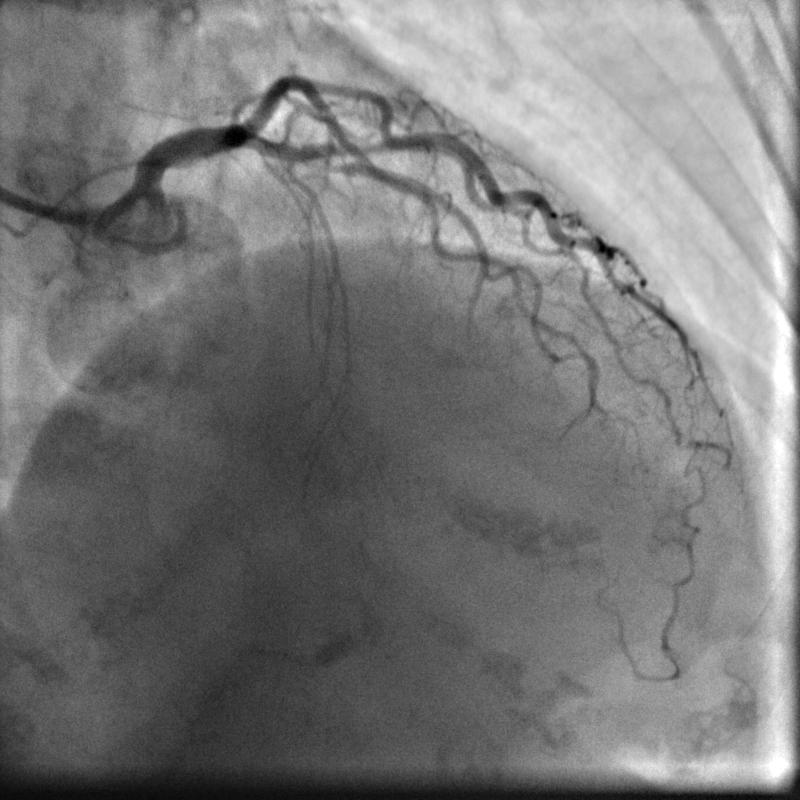Stenosis: (321, 159, 348, 178)
